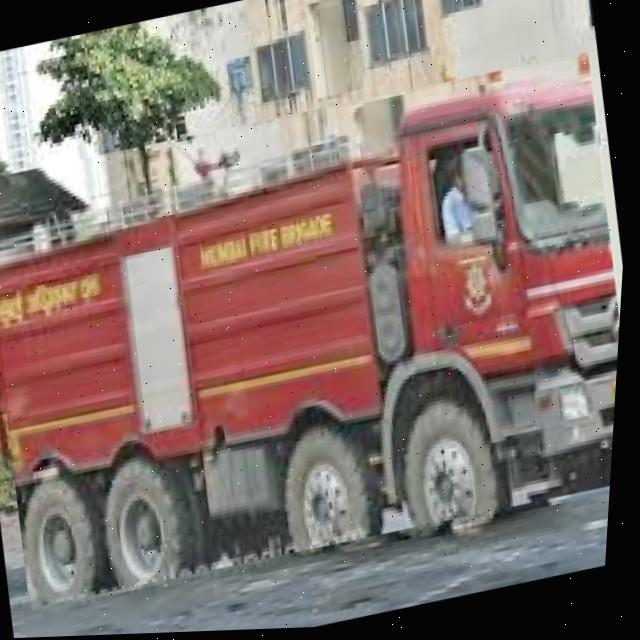Fire Truck: (0, 57, 636, 613)
